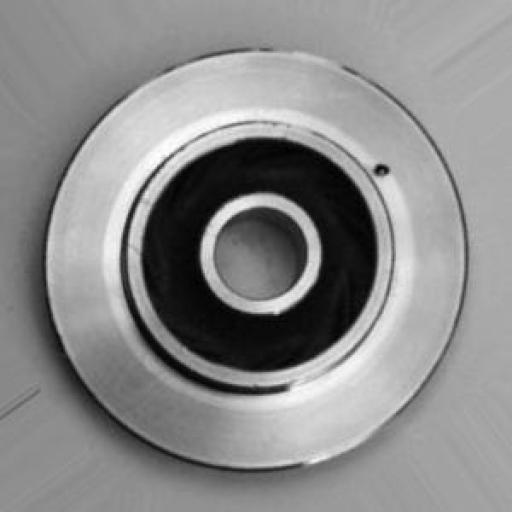defect: (352, 140, 414, 202)
